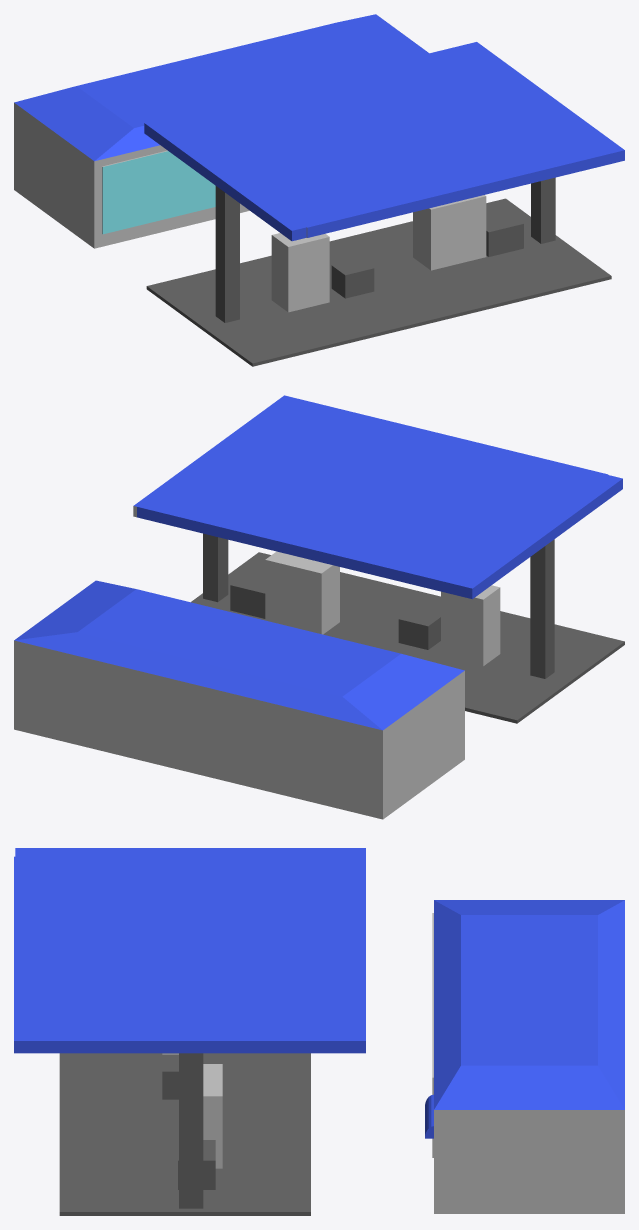
File: GasStation.fbx
3 views of the same model, one above another, from view 1: azimuth 30°, elevation 25°; view 2: azimuth 150°, elevation 25°; view 3: azimuth 270°, elevation 25° (orthographic). The views are drawn at different scales.
Visible parts, largest first — view 1: Cube; view 2: Cube; view 3: Cube.
Boxes of the visible parts, x1,y1,x2,y2 form: Cube: (14,14,624,366); Cube: (14,395,624,819); Cube: (14,848,624,1215).
Bounding box in the file's own units: 2600 × 992 × 3199.
